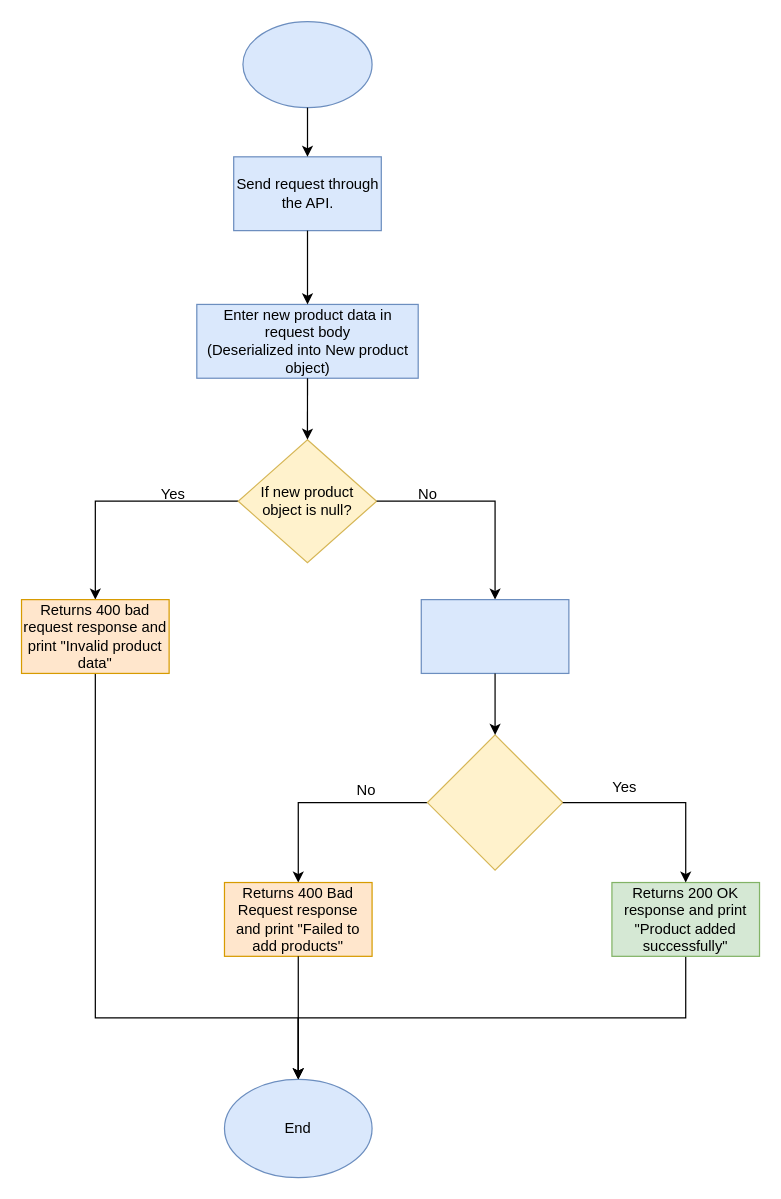
Some shapes in this 781 by 1199 pixel diagram are drawn without their labels. Each missing label, with the centre of its shape:
If affected rows > 0: point 494,802
Start: point 307,64
Validates the incoming new product data.: point 494,635
